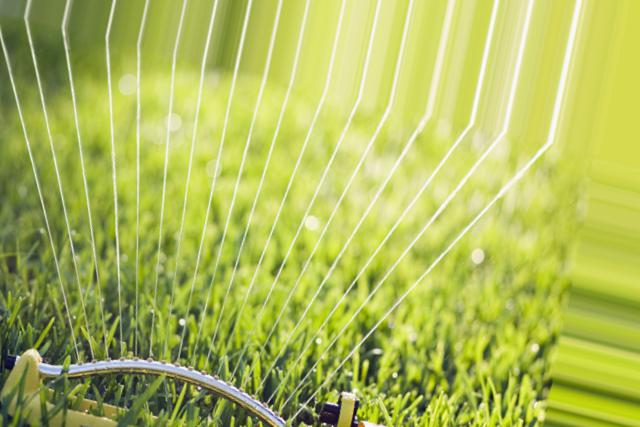patch: (88, 68, 437, 179), (225, 197, 418, 267), (128, 356, 174, 370), (86, 357, 117, 370)
